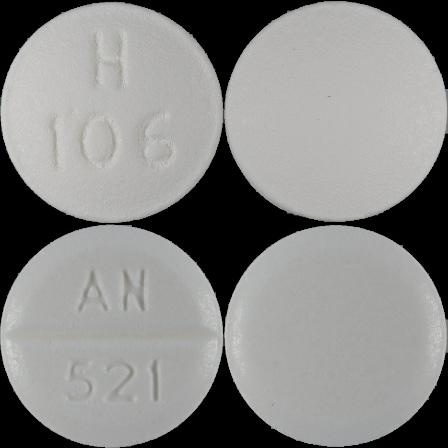51655-079: (0, 0, 224, 224)
